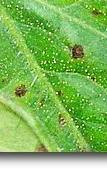Tomato Septoria leaf spot: (0, 0, 107, 145)
